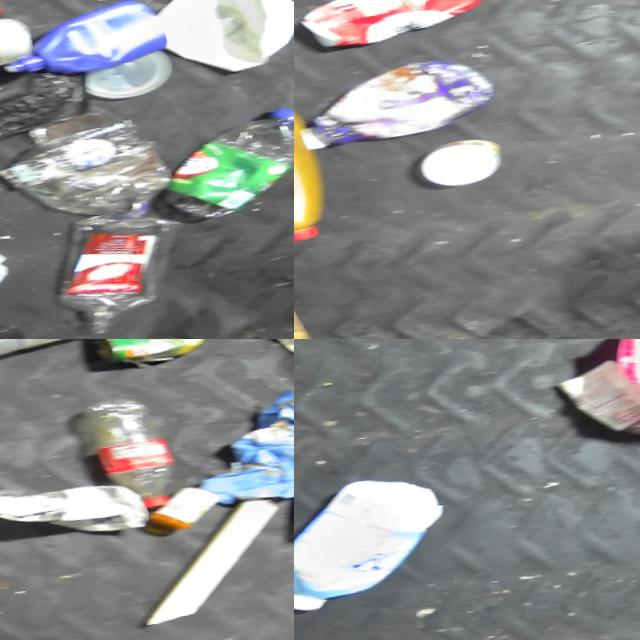milk_jug: (152, 0, 294, 76)
non_white_jug: (294, 464, 459, 616), (294, 49, 494, 153), (3, 0, 175, 86), (303, 0, 508, 54)
plastic_bottle: (50, 201, 194, 334), (156, 98, 294, 220), (90, 390, 181, 511)
